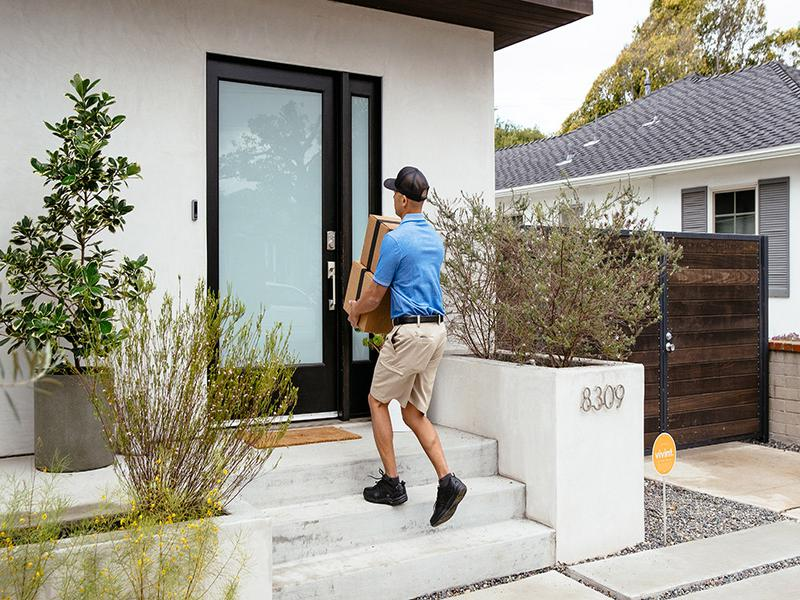package: (335, 256, 398, 344), (360, 213, 410, 275)
